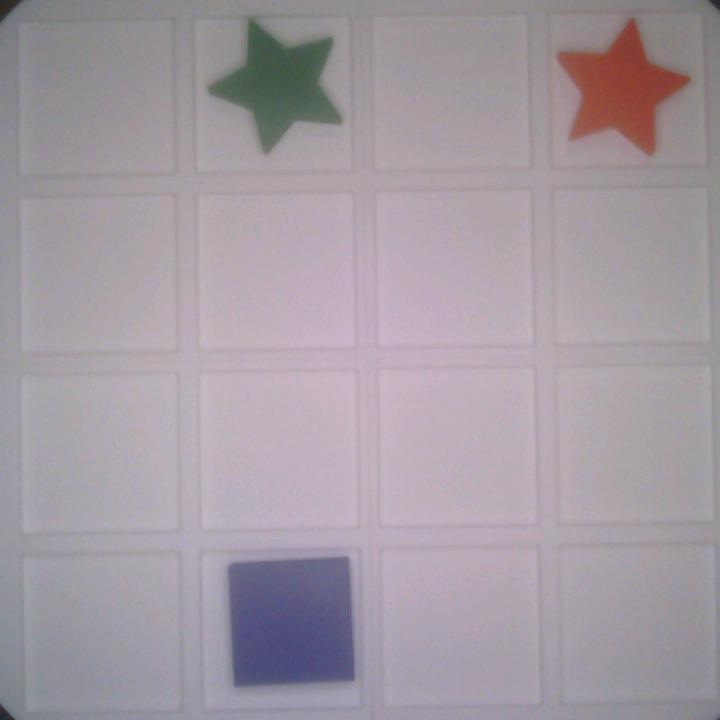Blue square: (225, 551, 358, 696)
Green star: (202, 13, 349, 151)
Orange star: (549, 14, 692, 162)
